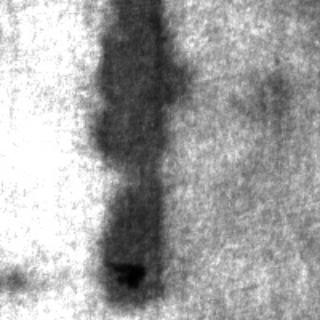patches: (88, 0, 182, 304)
